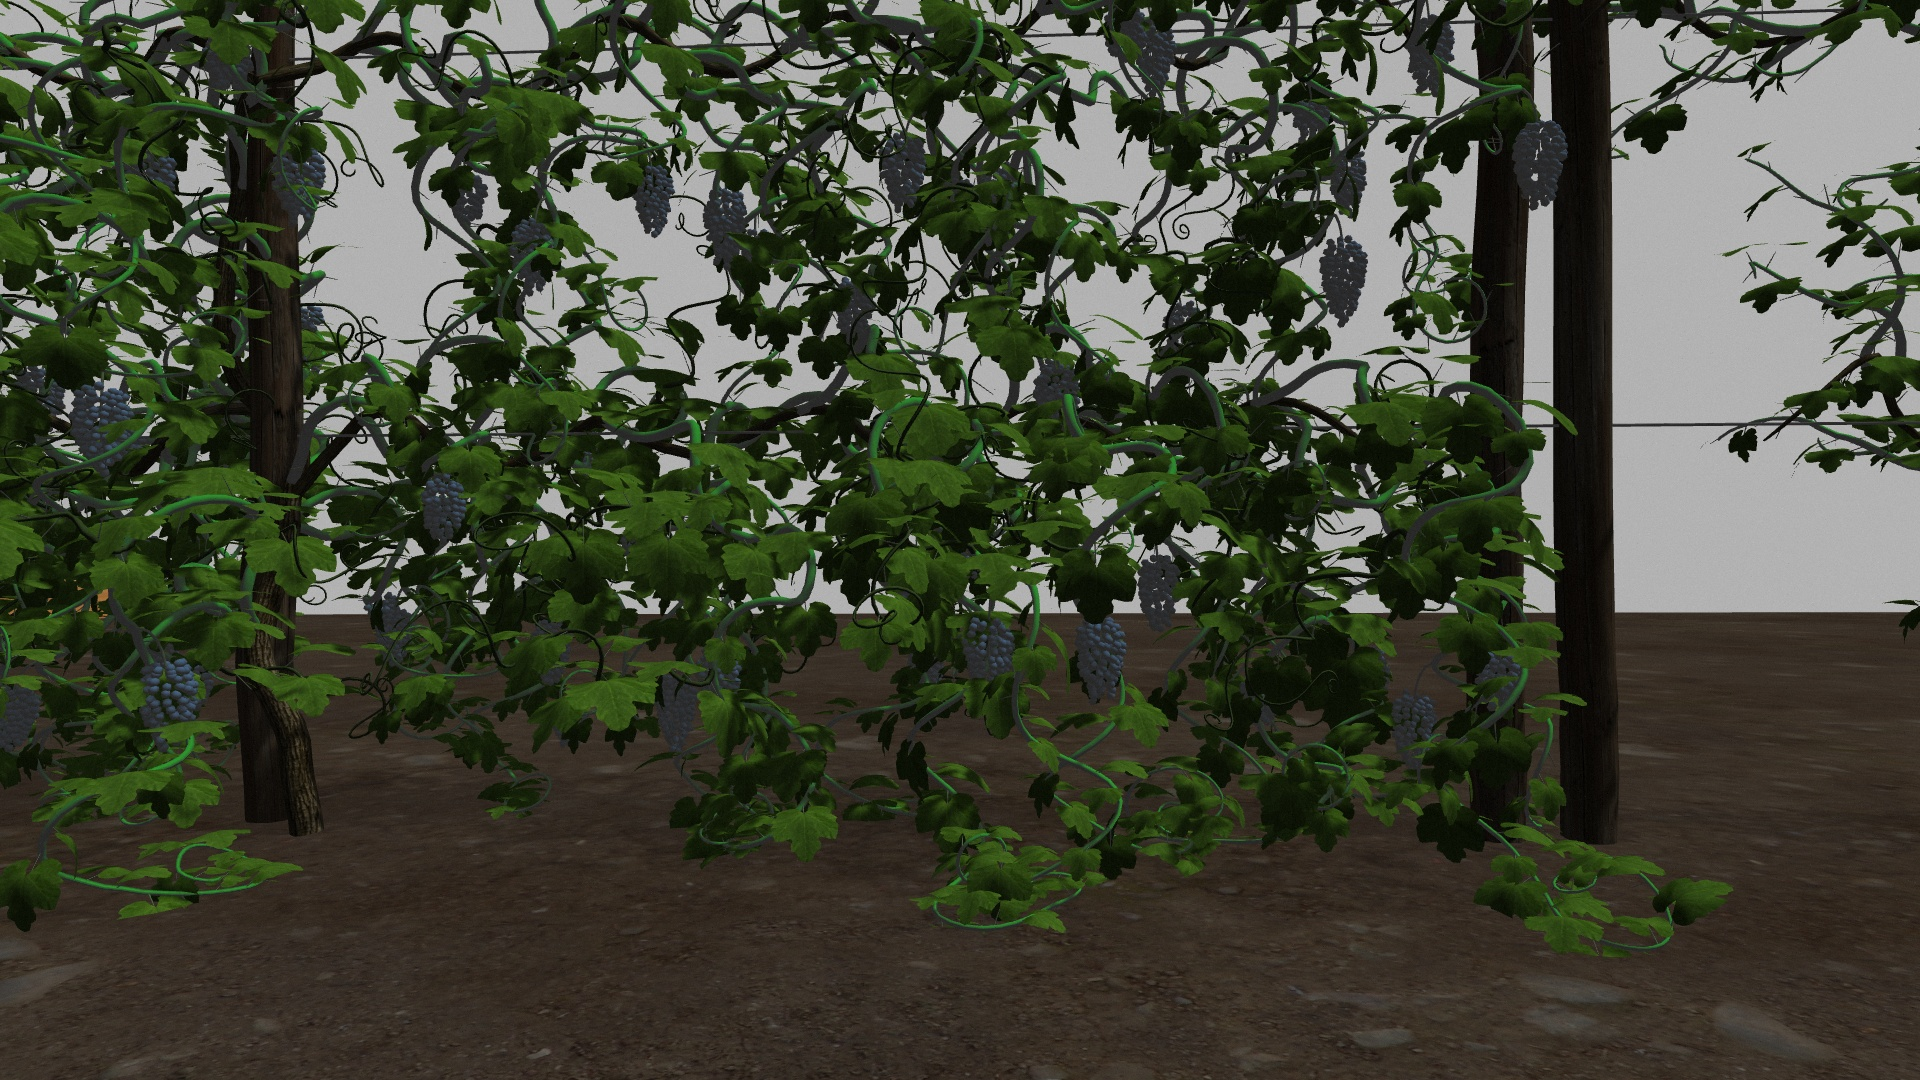grape: (74, 384, 135, 476), (1513, 119, 1571, 211), (136, 655, 202, 733), (1319, 233, 1369, 328), (1076, 616, 1129, 704), (880, 131, 935, 214), (651, 665, 702, 753), (702, 185, 752, 269), (1134, 554, 1184, 636), (1408, 16, 1457, 98), (269, 149, 326, 219), (632, 156, 676, 237), (512, 218, 554, 298), (964, 618, 1015, 684), (1390, 691, 1435, 766), (419, 475, 469, 541), (1138, 22, 1178, 95), (1033, 363, 1081, 411), (1331, 154, 1369, 216), (1101, 11, 1149, 59), (1480, 658, 1520, 712), (452, 173, 488, 223)
